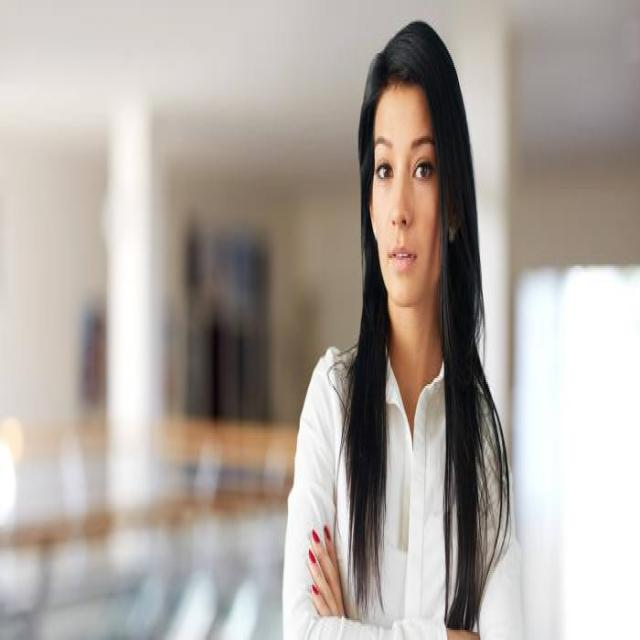mobile_phonerotation: (280, 18, 526, 636)
